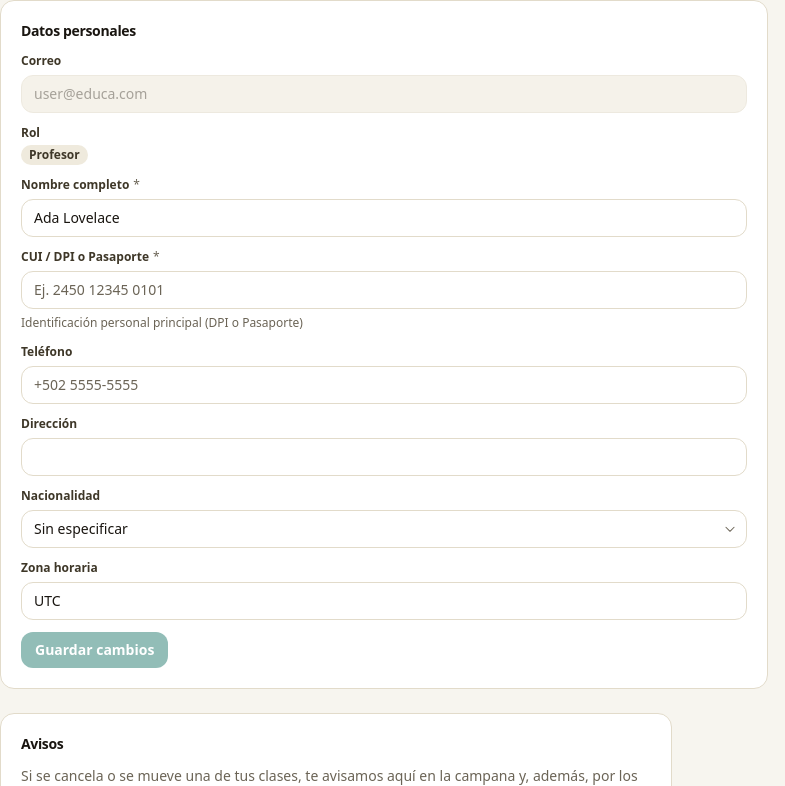
Test: ProfilePanel › disables save until the details actually change
The width and height of the screenshot is (785, 786).
Check: the button "Guardar cambios" is disabled, box left=21, top=632, right=168, bottom=668
In the field showing "Ada Lovelace": (384, 218) left=21, top=199, right=747, bottom=237, type "!"
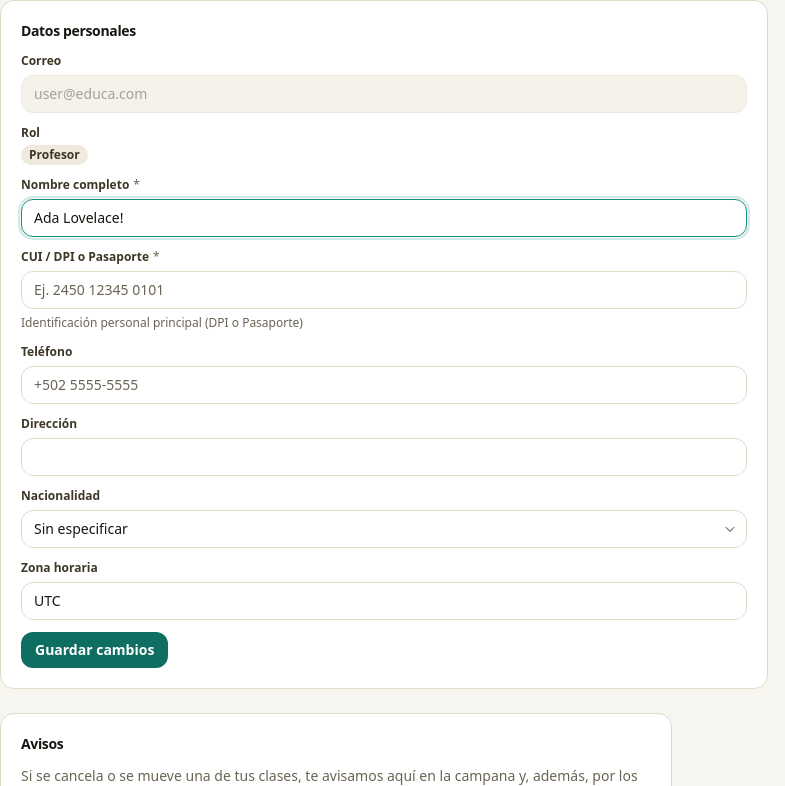
Check: the button "Guardar cambios" is enabled, box left=21, top=632, right=168, bottom=668
